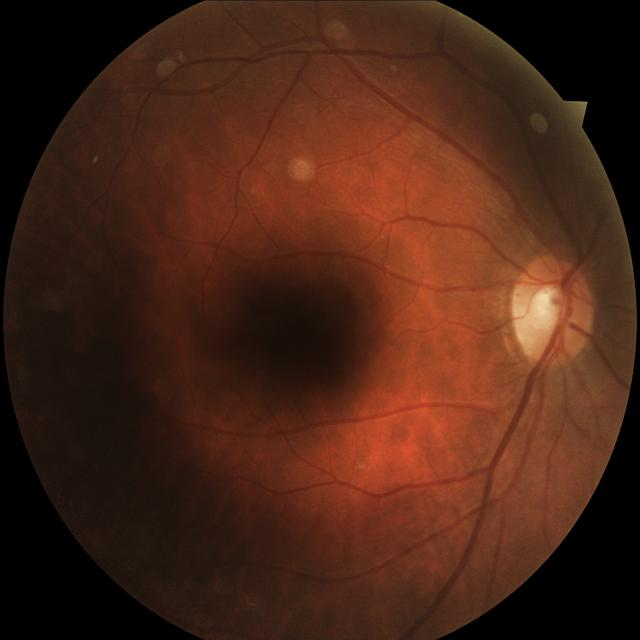OC: (534, 286, 562, 320)
OD: (512, 254, 596, 363)
